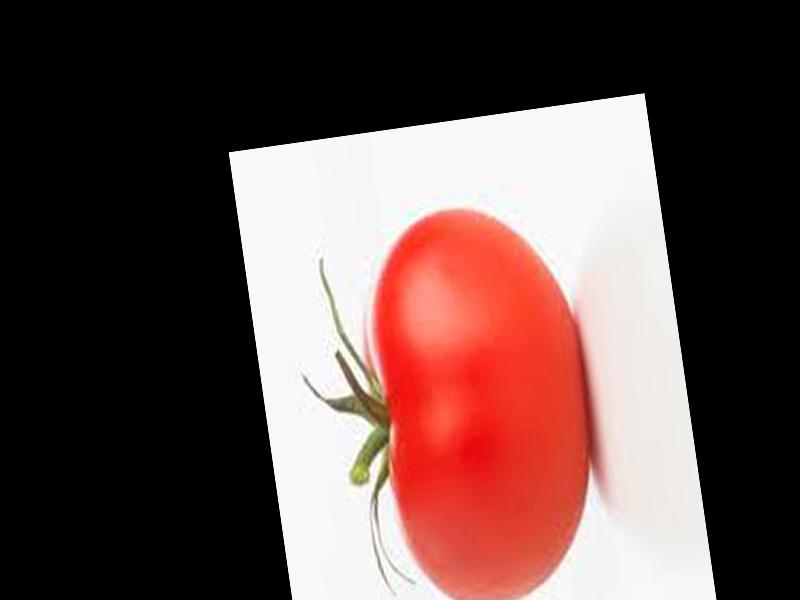Tomato: (353, 194, 613, 600)
